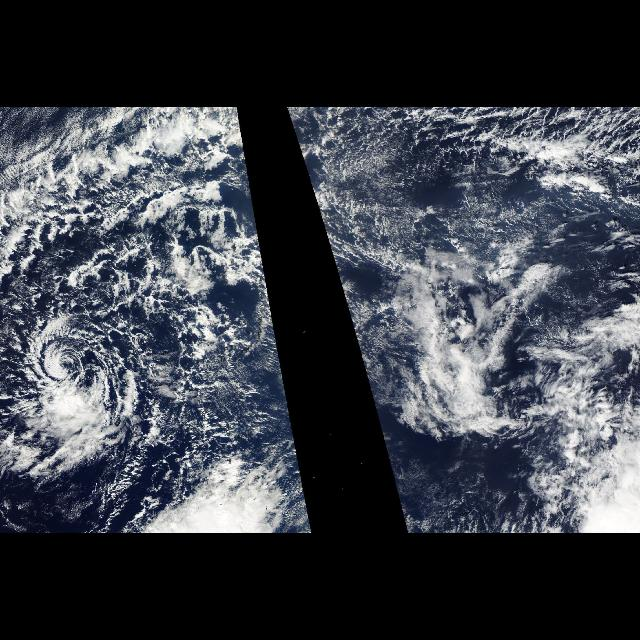Fish: (1, 112, 198, 474)
Gravel: (0, 205, 292, 491), (344, 108, 640, 178)
Sugar: (3, 181, 284, 431), (289, 110, 415, 262), (2, 107, 90, 159)
